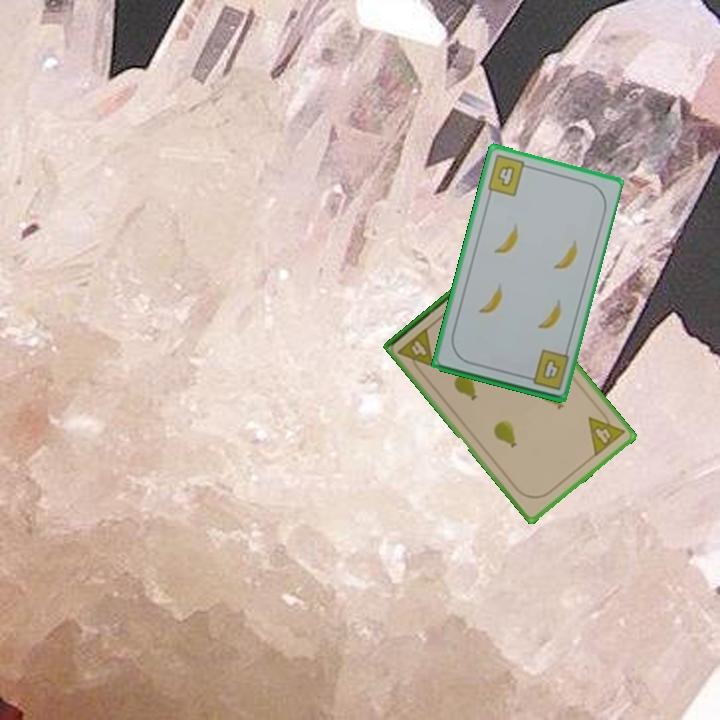4b: (484, 151, 534, 199), (521, 346, 572, 393)
4p: (585, 405, 628, 459), (394, 324, 437, 377)
